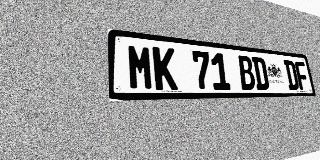1: (209, 52, 231, 90)
7: (190, 50, 213, 90)
B: (237, 55, 256, 90)
D: (251, 57, 270, 90), (283, 60, 300, 90)
F: (294, 61, 310, 90)
K: (152, 46, 178, 90)
M: (127, 44, 154, 90)
